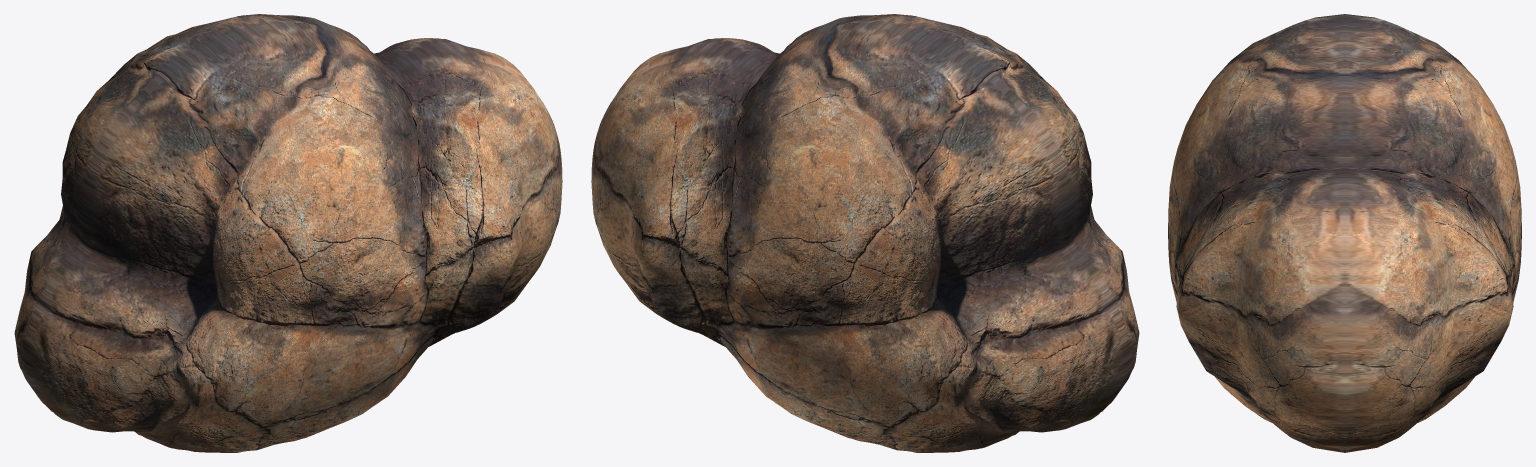
File: rocher-2.glb
3 renders of one model, left to right at view 1: azimuth 30°, elevation 25°; view 2: azimuth 150°, elevation 25°; view 3: azimuth 270°, elevation 25°, orthographic. The views are drawn at different scales.
Visible parts, largest first — view 1: rocher-2; view 2: rocher-2; view 3: rocher-2.
Part boxes in pixels (x1,y1,x2,y2): rocher-2: [14, 14, 562, 452]; rocher-2: [591, 14, 1139, 452]; rocher-2: [1168, 14, 1521, 452].
Size of the model in its own units: 1.9 by 1.4 by 1.17.
1 material, 1 textured.
